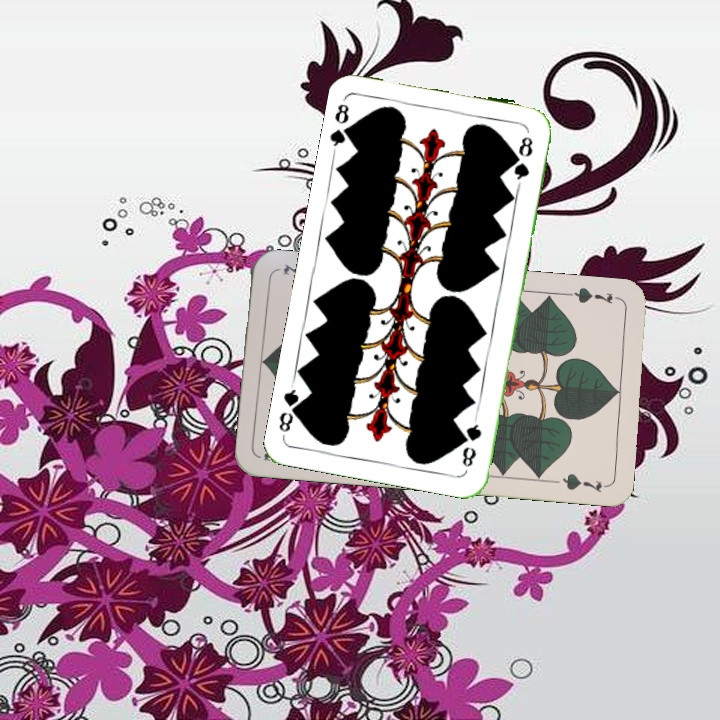G7: (564, 283, 615, 307)
G8: (327, 94, 357, 153), (458, 414, 484, 470)
